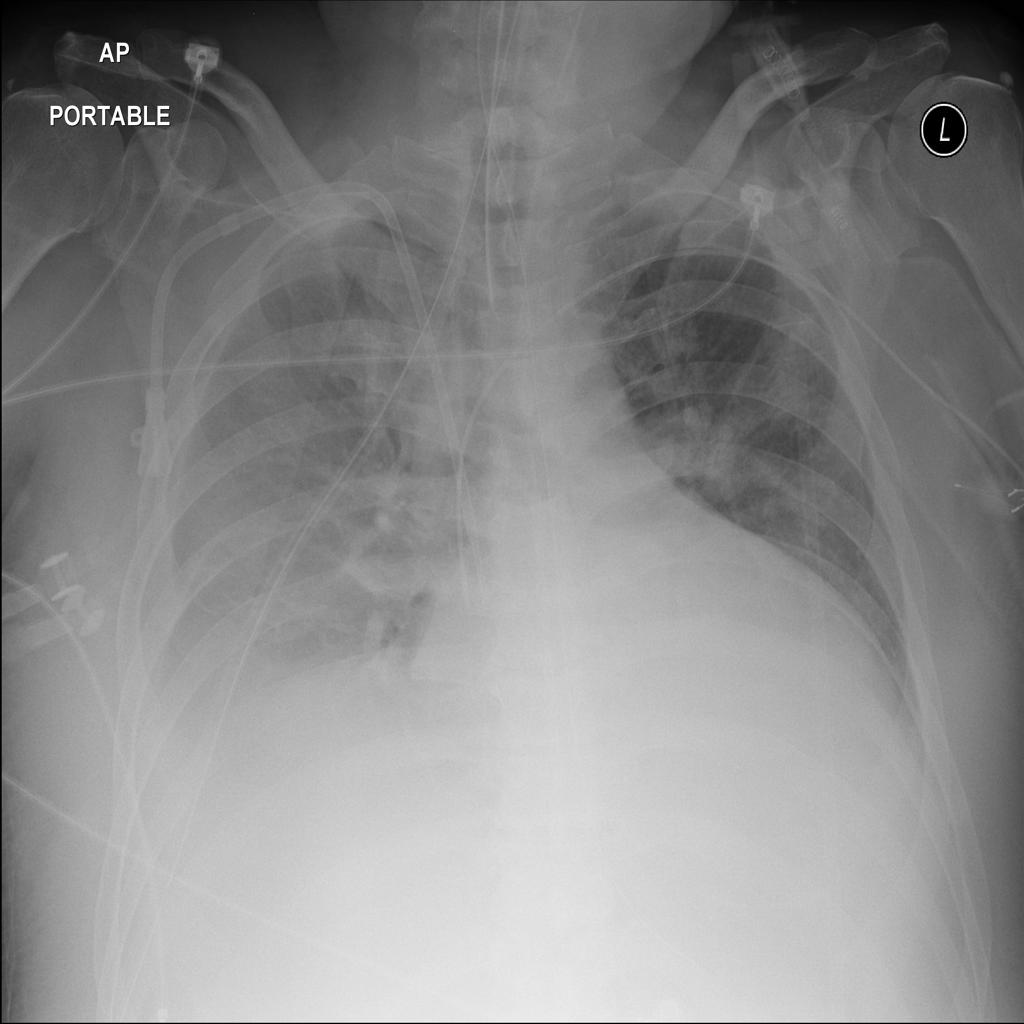Cardiomegaly: (358, 424, 925, 777)
